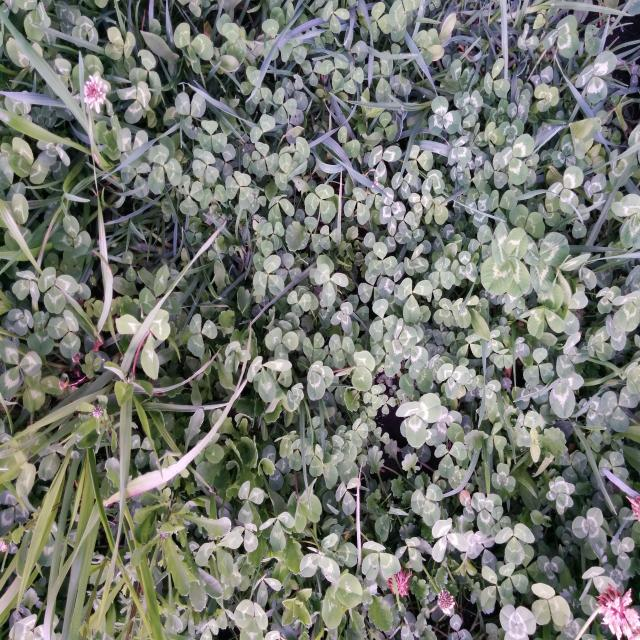Four Leaf Clover: (480, 224, 531, 298)
